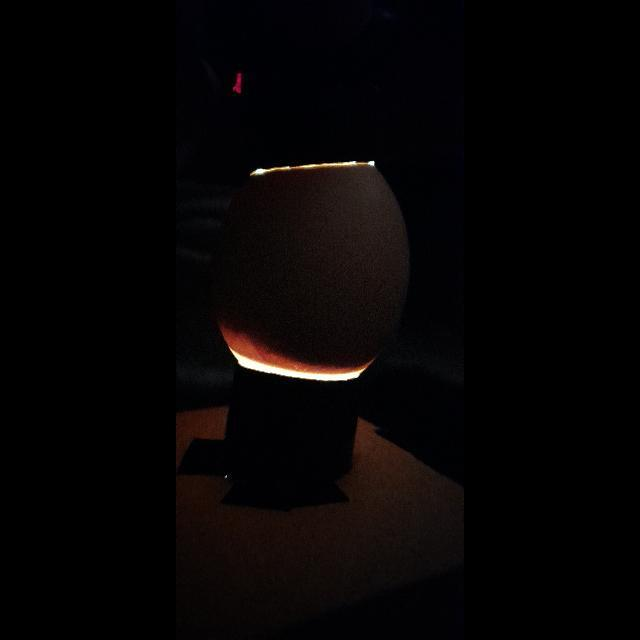Fertile: (220, 157, 396, 385)
